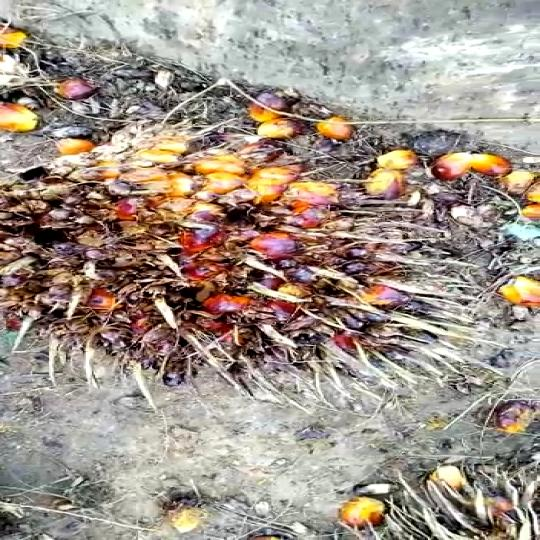terlalu masak: (1, 110, 425, 394)
